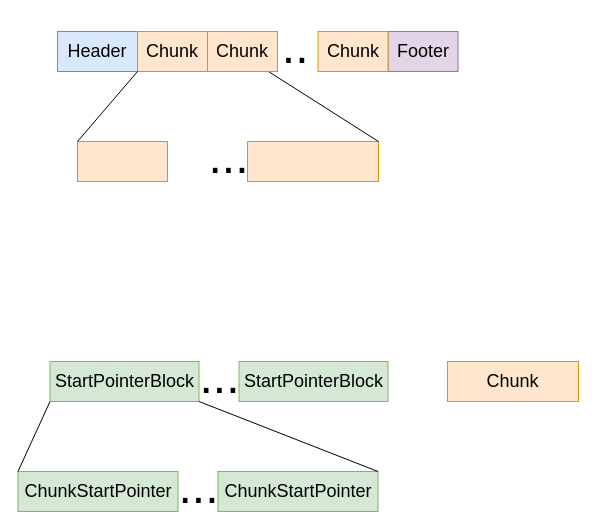
The diagram is 596 pixels wide and 532 high, and some of its shapes have lost their labels. Here are the shapes that lost their labels. From the top down, the box of each, then its label:
(76, 140, 168, 182): DocBase
(246, 140, 378, 182): ChunkDocNum
